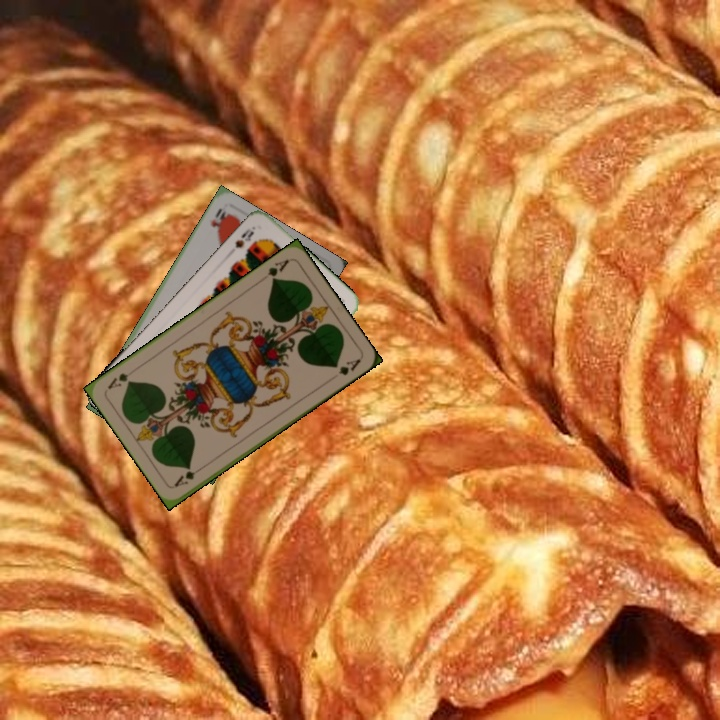GA: (170, 462, 206, 490), (263, 255, 292, 284)
HO: (206, 204, 231, 235)
S8: (231, 224, 257, 251)
